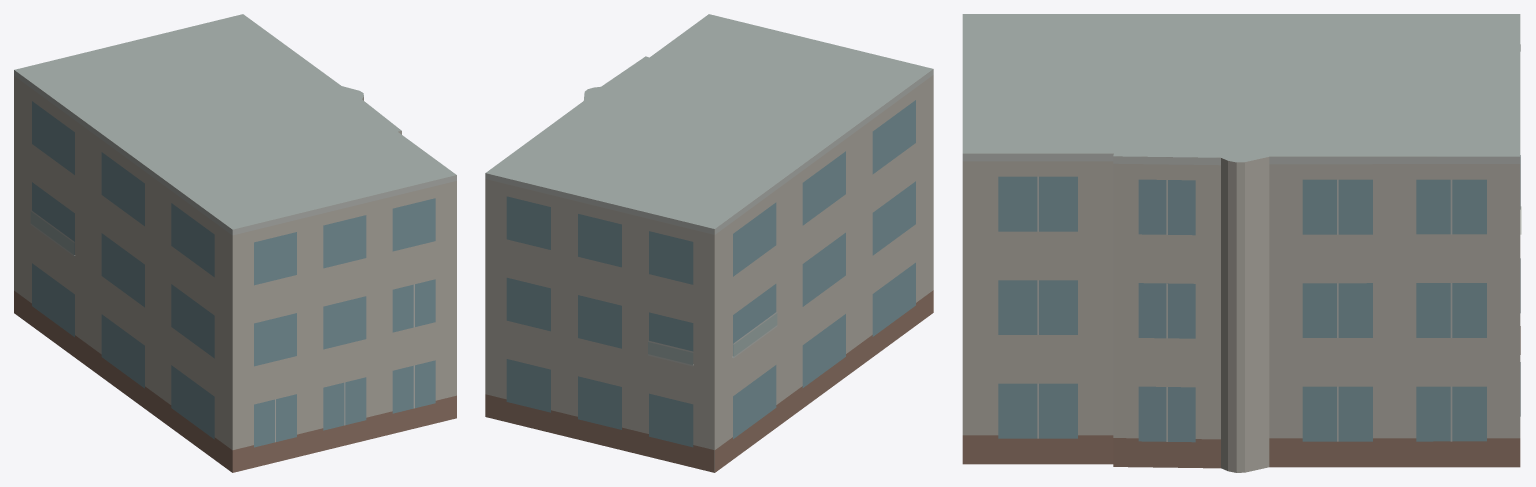
File: survey-upis-32948820.glb
3 renders of one model, left to right at view 1: azimuth 30°, elevation 25°; view 2: azimuth 150°, elevation 25°; view 3: azimuth 270°, elevation 25°, orthographic. The views are drawn at different scales.
Parts seen in each view (by area): view 1: survey-upis-32948820.tmp; view 2: survey-upis-32948820.tmp; view 3: survey-upis-32948820.tmp.
Part boxes in pixels (box(x1,y1,x2,y2)): survey-upis-32948820.tmp: box(14, 14, 456, 472); survey-upis-32948820.tmp: box(485, 14, 933, 472); survey-upis-32948820.tmp: box(962, 14, 1521, 472).
Size of the model in its own units: 10.49 by 10.2 by 16.65.
